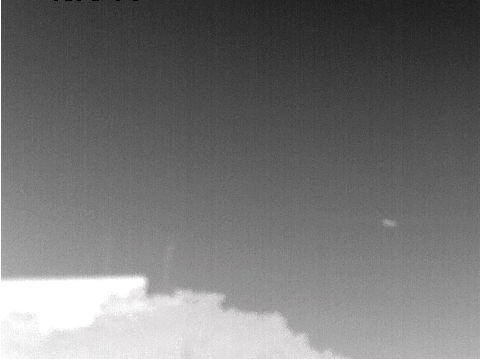dim target: (380, 217, 397, 229)
